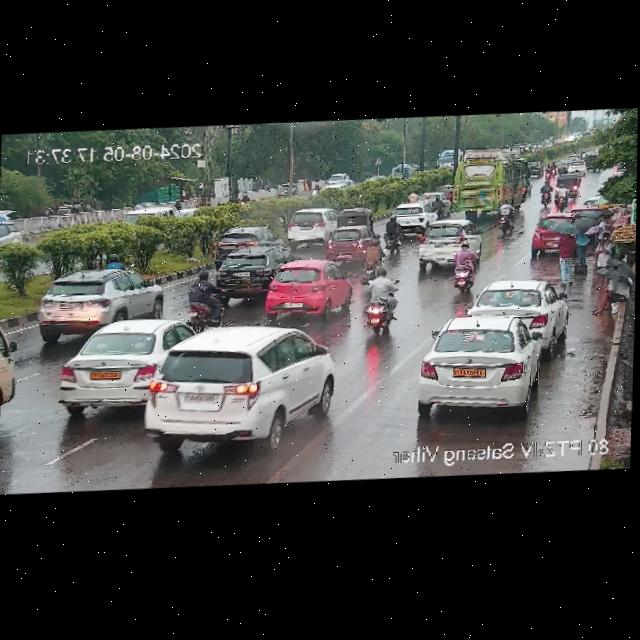bus: (438, 154, 533, 218), (0, 295, 21, 436)
car: (129, 319, 328, 452), (409, 308, 557, 414), (61, 315, 190, 414), (27, 263, 160, 333), (259, 255, 353, 318), (468, 276, 565, 337), (210, 245, 291, 293), (411, 218, 483, 265), (214, 225, 280, 253), (283, 208, 333, 244), (530, 215, 564, 254), (391, 200, 437, 226), (554, 173, 582, 202), (336, 206, 370, 228), (275, 183, 297, 198), (568, 161, 584, 175), (530, 161, 542, 177)
motorcycle: (362, 264, 402, 330), (183, 266, 230, 319), (446, 243, 476, 291), (359, 235, 383, 285), (492, 200, 518, 233), (387, 212, 403, 251), (535, 181, 551, 206), (554, 180, 570, 204), (434, 193, 444, 215), (541, 164, 551, 179), (409, 188, 417, 204), (241, 193, 249, 205), (550, 161, 556, 175)
person: (589, 270, 635, 313), (589, 214, 615, 260)
